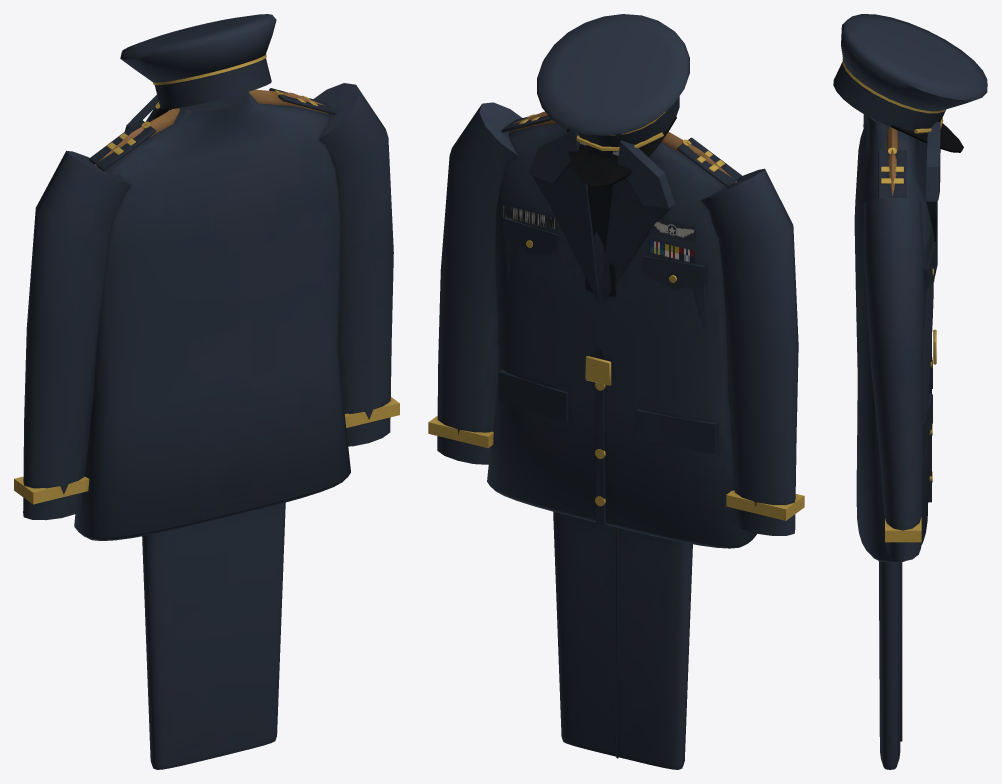
File: uniform_on_hanger.glb
3 renders of one model, left to right at view 1: azimuth 30°, elevation 25°; view 2: azimuth 150°, elevation 25°; view 3: azimuth 270°, elevation 25°, orthographic. The views are drawn at different scales.
Visible parts, largest first — view 1: lod0; view 2: lod0; view 3: lod0.
Boxes of the visible parts, x1=… form: lod0: x1=14, y1=14, x2=399, y2=769; lod0: x1=428, y1=14, x2=804, y2=769; lod0: x1=833, y1=14, x2=987, y2=769.
Bounding box in the file's own units: 0.712 × 1.37 × 0.2686.
Materials: 1 (1 with a texture image).
